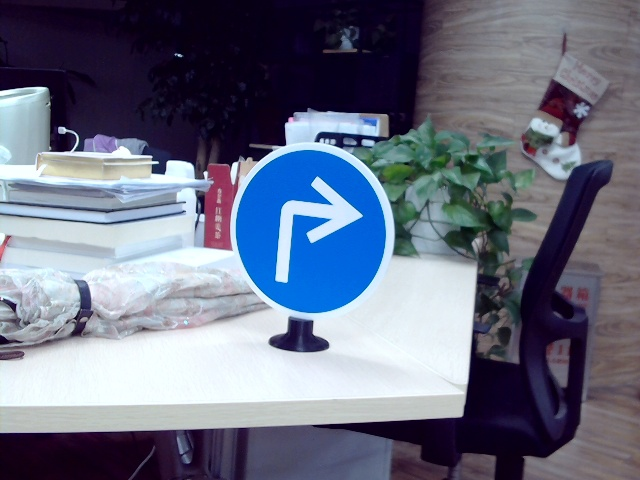turn_right: (266, 173, 362, 285)
